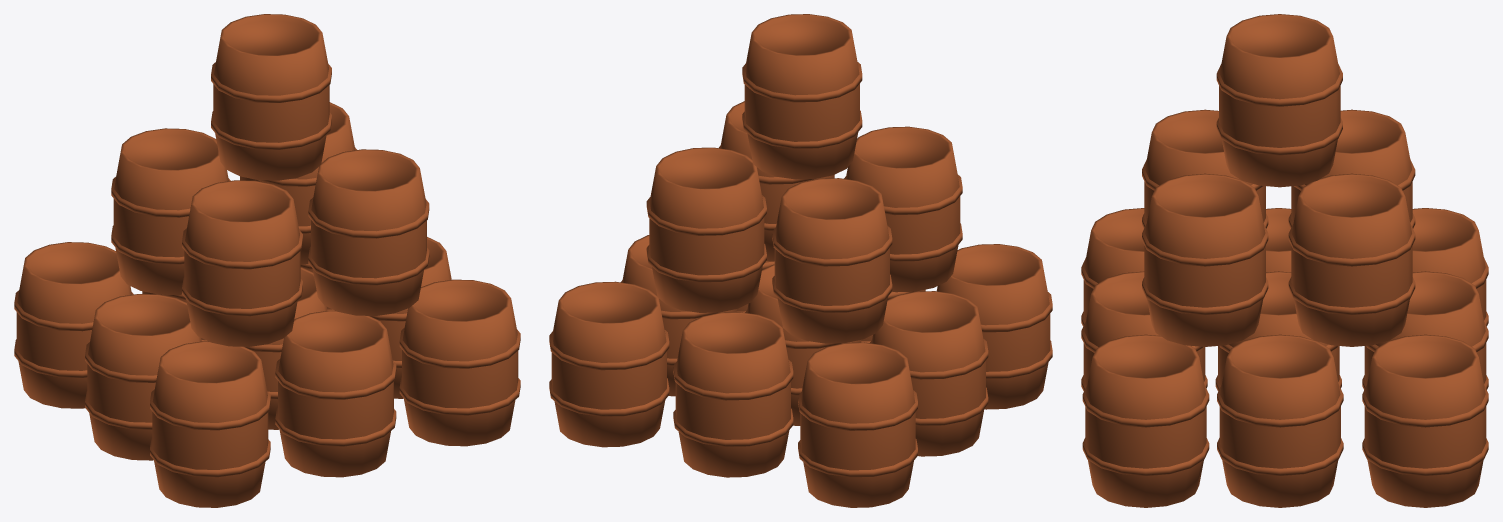
File: barrel.obj
The picture shows the model from 3 angles, left to right: view 1: azimuth 30°, elevation 25°; view 2: azimuth 150°, elevation 25°; view 3: azimuth 270°, elevation 25°; orthographic projection. The views are drawn at different scales.
Visible parts, largest first — view 1: Barrel.009_Cylinder.011, Barrel.013_Cylinder.021, Barrel.012_Cylinder.020, Barrel.006_Cylinder.008, Barrel.004_Cylinder.006, Barrel.005_Cylinder.007, Barrel.010_Cylinder.012, Barrel.007_Cylinder.009, Barrel.008_Cylinder.010, Barrel.011_Cylinder.019, Barrel_Cylinder, Barrel.003_Cylinder.005; view 2: Barrel.010_Cylinder.012, Barrel.001_Cylinder.003, Barrel.013_Cylinder.021, Barrel.002_Cylinder.004, Barrel.011_Cylinder.019, Barrel.007_Cylinder.009, Barrel.009_Cylinder.011, Barrel.008_Cylinder.010, Barrel.006_Cylinder.008, Barrel.003_Cylinder.005, Barrel_Cylinder, Barrel.012_Cylinder.020; view 3: Barrel.002_Cylinder.004, Barrel.003_Cylinder.005, Barrel.012_Cylinder.020, Barrel.013_Cylinder.021, Barrel.011_Cylinder.019, Barrel.004_Cylinder.006, Barrel.009_Cylinder.011, Barrel.001_Cylinder.003, Barrel.010_Cylinder.012, Barrel.007_Cylinder.009, Barrel.005_Cylinder.007, Barrel.006_Cylinder.008 (+2 smaller).
Part boxes in pixels (bbox=[...]): Barrel.009_Cylinder.011: bbox=[182, 180, 302, 346]; Barrel.013_Cylinder.021: bbox=[211, 14, 331, 180]; Barrel.012_Cylinder.020: bbox=[308, 149, 429, 315]; Barrel.006_Cylinder.008: bbox=[150, 341, 270, 507]; Barrel.004_Cylinder.006: bbox=[399, 279, 520, 446]; Barrel.005_Cylinder.007: bbox=[275, 310, 396, 477]; Barrel.010_Cylinder.012: bbox=[111, 128, 230, 294]; Barrel.007_Cylinder.009: bbox=[14, 242, 133, 408]; Barrel.008_Cylinder.010: bbox=[85, 294, 201, 460]; Barrel.011_Cylinder.019: bbox=[240, 102, 356, 264]; Barrel_Cylinder: bbox=[245, 267, 327, 429]; Barrel.003_Cylinder.005: bbox=[370, 237, 451, 398]; Barrel.010_Cylinder.012: bbox=[772, 178, 892, 343]; Barrel.001_Cylinder.003: bbox=[673, 312, 793, 477]; Barrel.013_Cylinder.021: bbox=[742, 14, 862, 179]; Barrel.002_Cylinder.004: bbox=[549, 281, 669, 447]; Barrel.011_Cylinder.019: bbox=[646, 147, 766, 312]; Barrel.007_Cylinder.009: bbox=[798, 342, 917, 507]; Barrel.009_Cylinder.011: bbox=[844, 126, 962, 292]; Barrel.008_Cylinder.010: bbox=[870, 291, 988, 456]; Barrel.006_Cylinder.008: bbox=[936, 244, 1052, 409]; Barrel.003_Cylinder.005: bbox=[621, 235, 736, 396]; Barrel_Cylinder: bbox=[745, 264, 861, 425]; Barrel.012_Cylinder.020: bbox=[718, 101, 834, 261]; Barrel.002_Cylinder.004: bbox=[1362, 334, 1488, 507]; Barrel.003_Cylinder.005: bbox=[1217, 334, 1343, 507]; Barrel.012_Cylinder.020: bbox=[1142, 173, 1268, 346]; Barrel.013_Cylinder.021: bbox=[1216, 14, 1342, 187]; Barrel.011_Cylinder.019: bbox=[1288, 173, 1415, 346]; Barrel.004_Cylinder.006: bbox=[1082, 334, 1209, 507]; Barrel.009_Cylinder.011: bbox=[1142, 109, 1268, 228]; Barrel.001_Cylinder.003: bbox=[1362, 271, 1488, 389]; Barrel.010_Cylinder.012: bbox=[1288, 109, 1415, 228]; Barrel.007_Cylinder.009: bbox=[1412, 208, 1488, 326]; Barrel.005_Cylinder.007: bbox=[1081, 271, 1207, 391]; Barrel.006_Cylinder.008: bbox=[1081, 208, 1144, 326].
Bounding box in the file's own units: 12.08 × 12.06 × 11.54.
